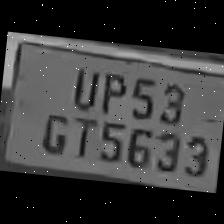3: (156, 75, 188, 125), (179, 128, 211, 178), (150, 124, 182, 172)
5: (125, 68, 159, 120), (92, 114, 126, 164)
6: (123, 120, 155, 168)
G: (36, 106, 72, 154)
P: (94, 62, 128, 114)
T: (66, 111, 97, 159)
U: (67, 60, 102, 110)
